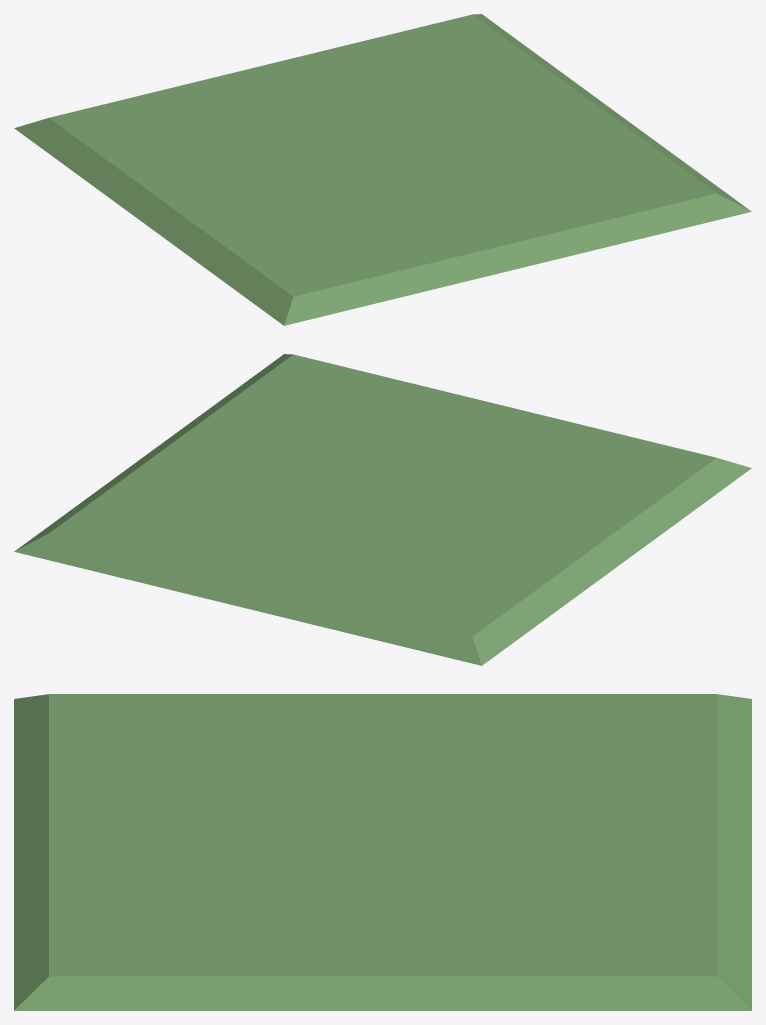
File: GoofyAhhhTile.fbx
3 renders of one model, top to bottom at view 1: azimuth 30°, elevation 25°; view 2: azimuth 150°, elevation 25°; view 3: azimuth 270°, elevation 25°, orthographic. The views are drawn at different scales.
Parts seen in each view (by area): view 1: Cube; view 2: Cube; view 3: Cube.
Boxes of the visible parts, <box> form: Cube: <box>14,14,751,325</box>; Cube: <box>14,354,751,665</box>; Cube: <box>14,694,751,1010</box>.
Size of the model in its own units: 433 by 12.73 by 433.
